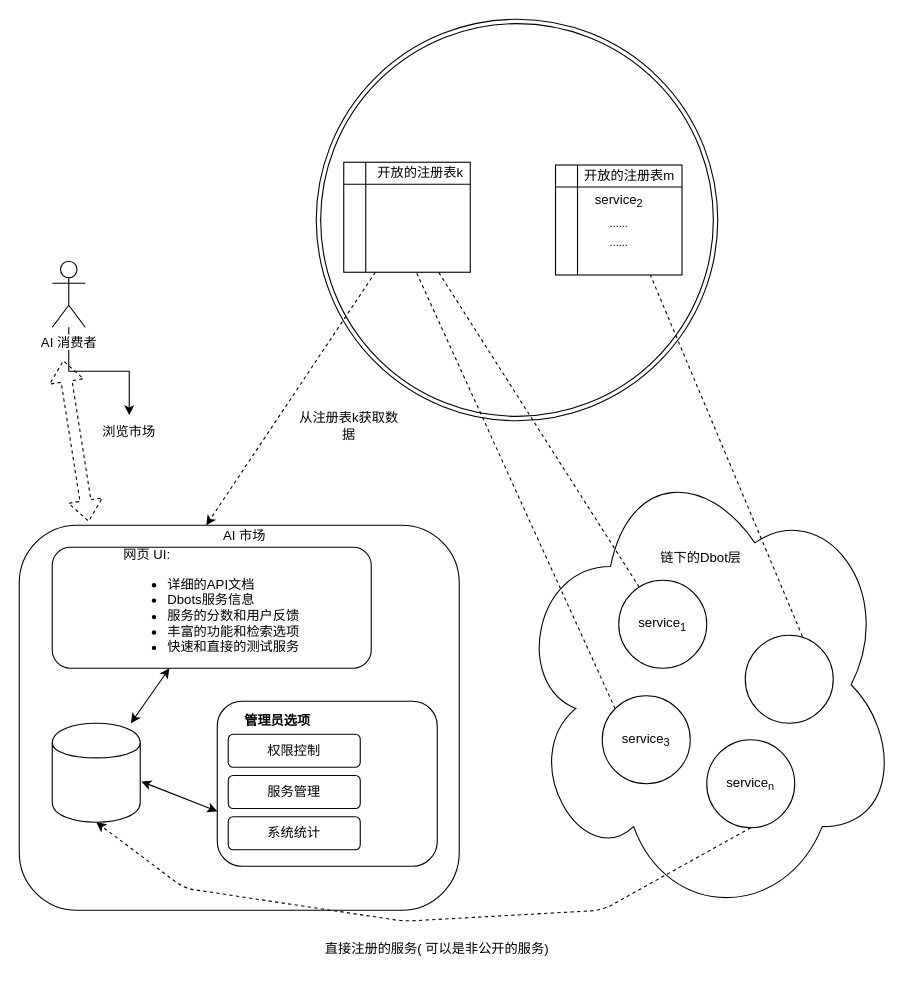
This 919x985 diagram has some shape labels left out. The box of each missing label's shape, as (x1, y1, x2, y2) in pixels:
Atmatrix 主网: (315, 18, 718, 421)
service 1 service 3 .......: (343, 161, 470, 272)
service 2 (API): (744, 634, 833, 723)
已注册的服务: (51, 722, 140, 822)
